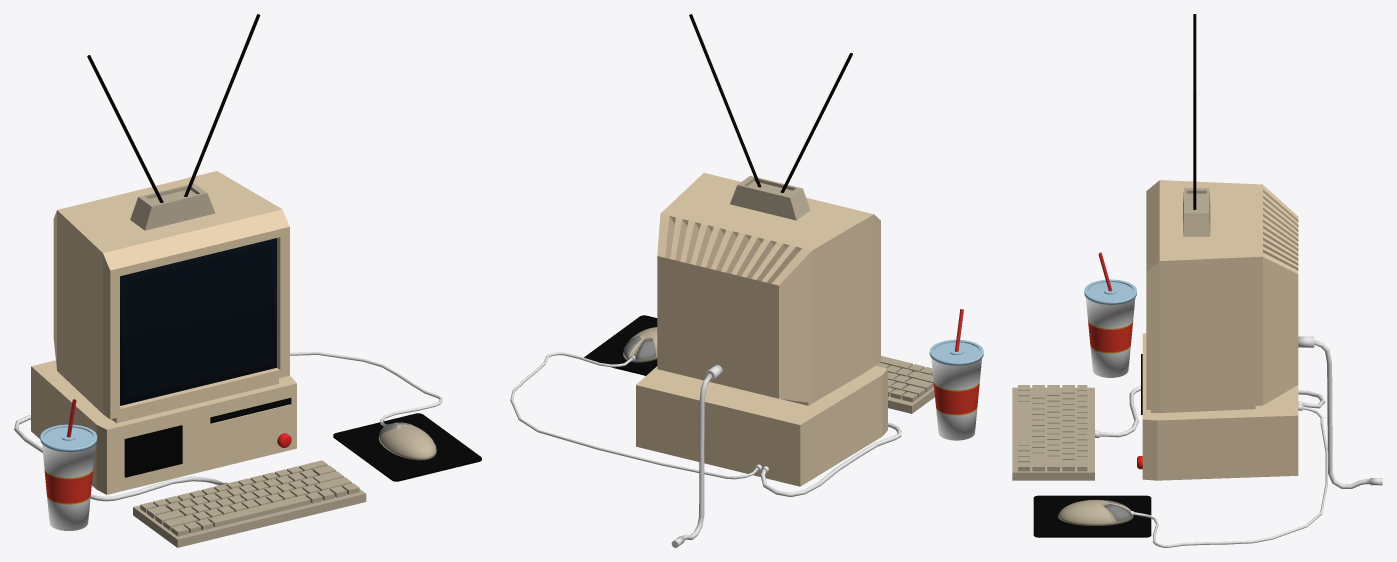
Rendered from old_computer.fbx.
3 views of the same model, side by side, from view 1: azimuth 30°, elevation 25°; view 2: azimuth 150°, elevation 25°; view 3: azimuth 270°, elevation 25° (orthographic). The views are drawn at different scales.
Visible parts, largest first — view 1: Cube, Cube.003, Cylinder.001, Cube.004, Cube.002, Sphere, Cylinder.002, Cylinder.003; view 2: Cube, Cylinder.001, Cube.002, Cube.003, Cube.004, Cylinder.003, Cylinder, Cylinder.002, Sphere; view 3: Cube, Cube.003, Cylinder.001, Cube.004, Cube.002, Sphere, Cylinder, Cylinder.003, Cylinder.002.
Part boxes in pixels (box(x1,y1,x2,y2)): Cube: box(31, 171, 296, 494); Cube.003: box(133, 460, 366, 547); Cylinder.001: box(40, 399, 97, 530); Cube.004: box(333, 413, 481, 481); Cube.002: box(87, 14, 260, 230); Sphere: box(378, 422, 436, 460); Cylinder.002: box(14, 415, 227, 501); Cylinder.003: box(290, 352, 442, 426); Cube: box(636, 173, 887, 486); Cylinder.001: box(929, 309, 983, 440); Cube.002: box(689, 14, 852, 220); Cube.003: box(876, 356, 934, 413); Cube.004: box(584, 315, 657, 375); Cylinder.003: box(510, 352, 761, 479); Cylinder: box(671, 364, 722, 547); Cylinder.002: box(760, 422, 901, 496); Sphere: box(623, 327, 657, 362); Cube: box(1141, 180, 1298, 480); Cube.003: box(1012, 385, 1094, 480); Cylinder.001: box(1084, 252, 1136, 377); Cube.004: box(1033, 495, 1151, 537); Cube.002: box(1183, 14, 1210, 236); Sphere: box(1058, 499, 1133, 525); Cylinder: box(1298, 336, 1382, 488); Cylinder.003: box(1131, 404, 1328, 547); Cylinder.002: box(1095, 386, 1325, 437).
Size of the model in its own units: 600 by 635 by 487.
